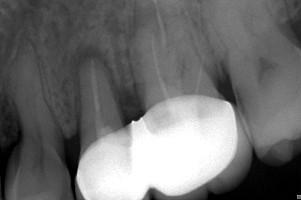Furcation Involvement: (70, 41, 112, 79)
